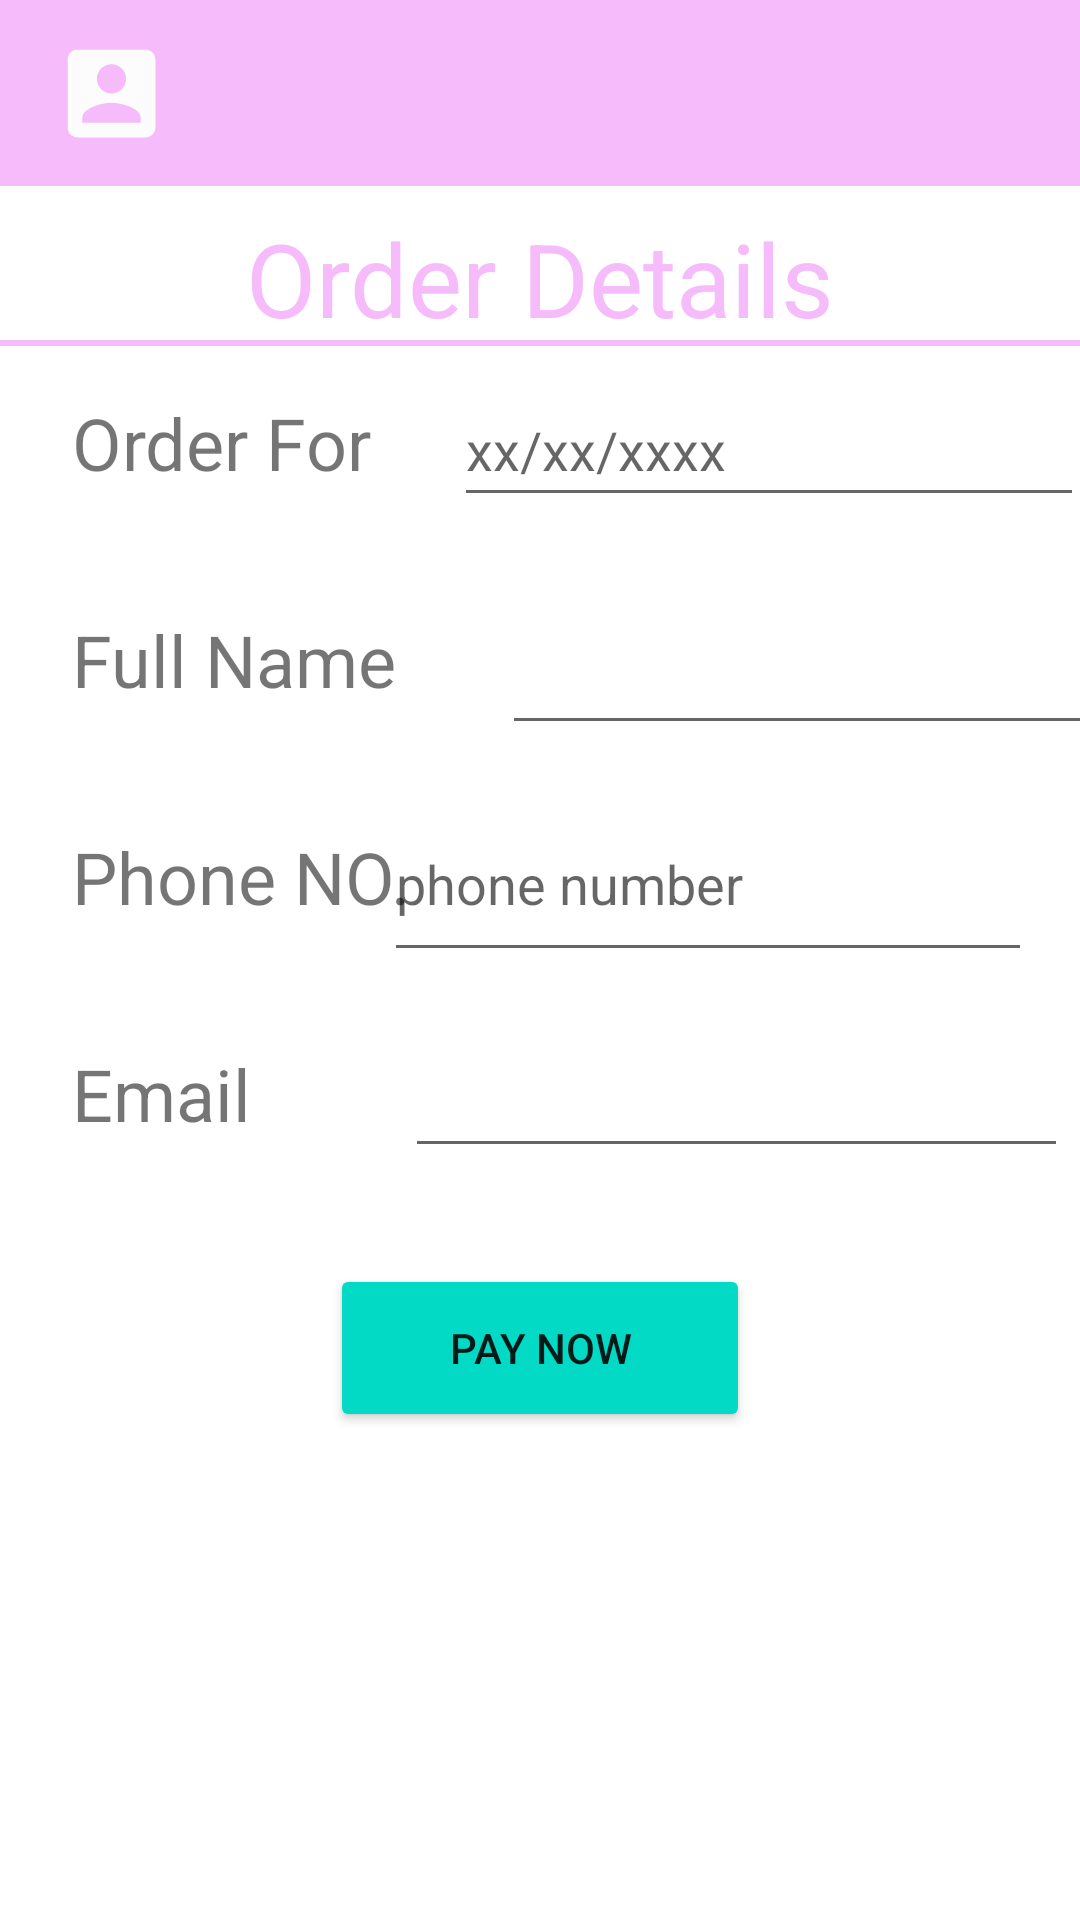

Icon click points for this 1080px x 1920px phone screenshot, format [x,y]:
account box: [112,94]
